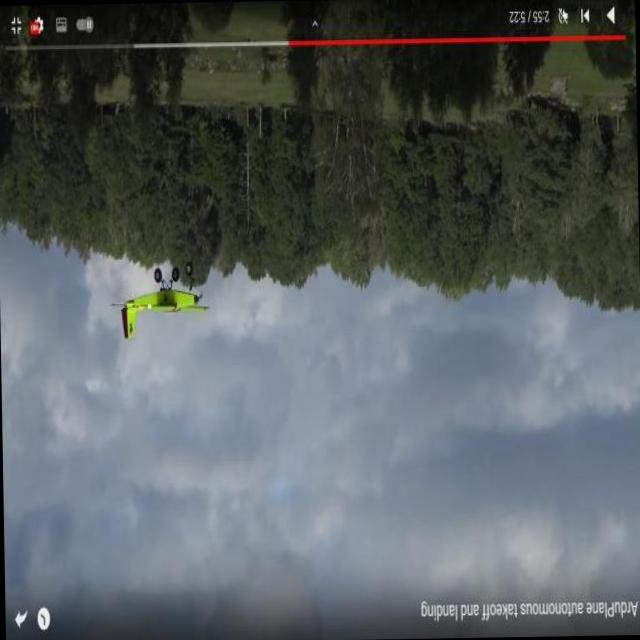UAV: (108, 272, 212, 328)
